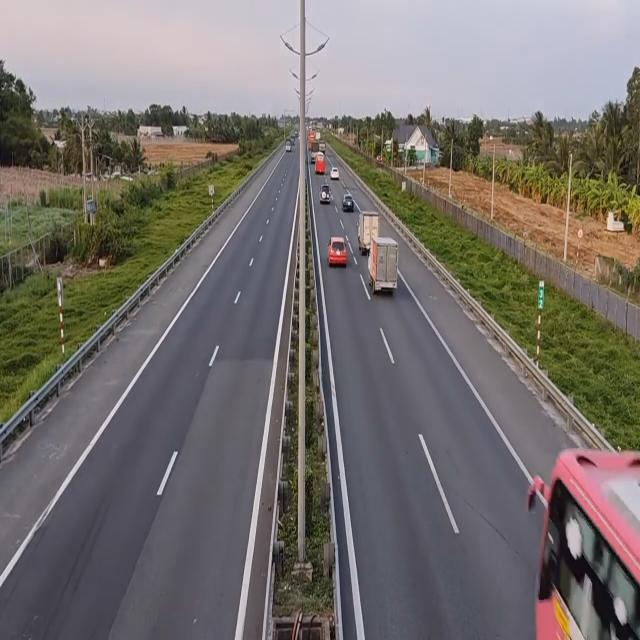bus: (525, 445, 639, 640)
car: (328, 236, 351, 267), (319, 180, 332, 204), (342, 190, 356, 212), (329, 168, 339, 182)
truck: (367, 237, 398, 298), (357, 211, 379, 257)
